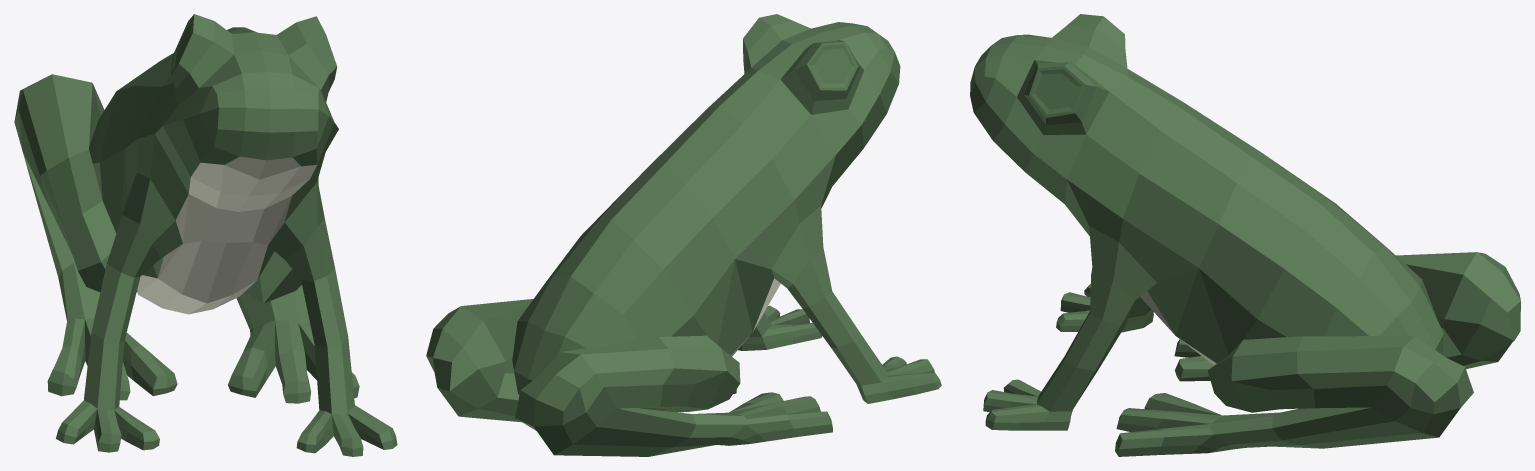
File: frog.glb
3 renders of one model, left to right at view 1: azimuth 30°, elevation 25°; view 2: azimuth 150°, elevation 25°; view 3: azimuth 270°, elevation 25°, orthographic. The views are drawn at different scales.
Parts seen in each view (by area): view 1: Frog; view 2: Frog; view 3: Frog.
Boxes of the visible parts, x1=… form: Frog: x1=14, y1=14, x2=397, y2=456; Frog: x1=426, y1=14, x2=941, y2=456; Frog: x1=970, y1=14, x2=1520, y2=456.
Size of the model in its own units: 0.1887 by 0.1799 by 0.2435.
1 material, 1 textured.
